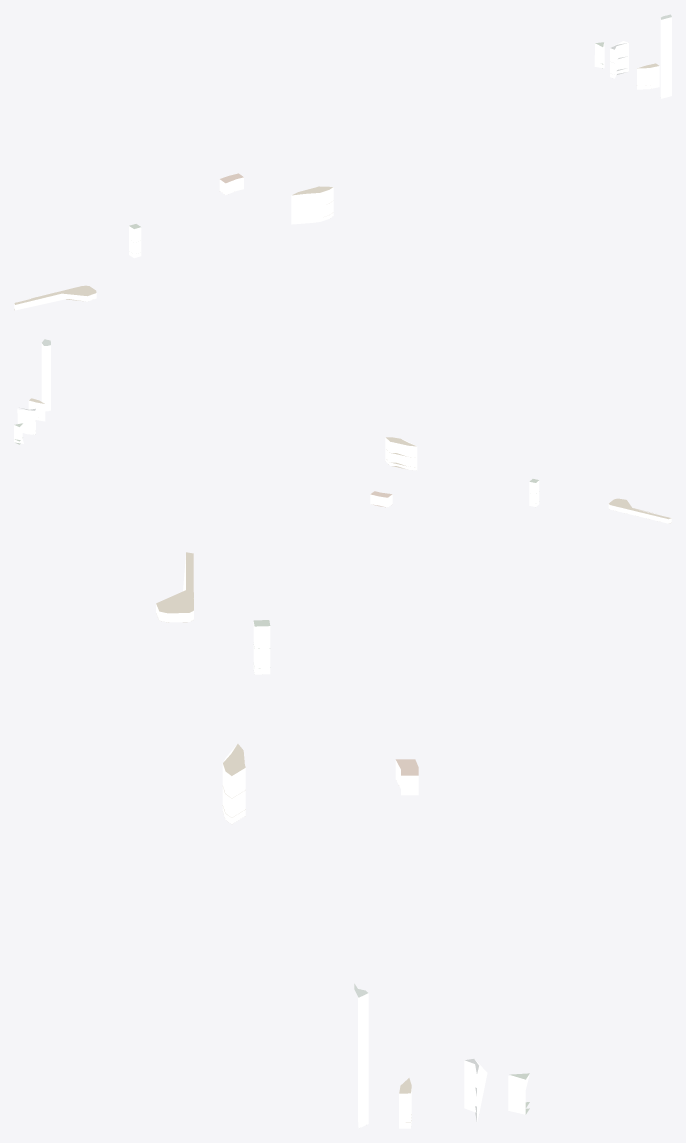
File: buildings--8_-3-coarse.glb
The picture shows the model from 3 angles, top to bottom: view 1: azimuth 30°, elevation 25°; view 2: azimuth 150°, elevation 25°; view 3: azimuth 270°, elevation 25°; orthographic projection. The views are drawn at different scales.
Visible parts, largest first — view 1: block_-8_-3_residential, block_-8_-3_roof, block_-8_-3_office; view 2: block_-8_-3_residential, block_-8_-3_roof, block_-8_-3_office; view 3: block_-8_-3_residential, block_-8_-3_roof, block_-8_-3_office.
Boxes of the visible parts, left/top/right/bottom form: block_-8_-3_residential: left=14, top=41, right=659, bottom=310; block_-8_-3_roof: left=14, top=14, right=671, bottom=310; block_-8_-3_office: left=660, top=17, right=671, bottom=98; block_-8_-3_residential: left=14, top=400, right=671, bottom=523; block_-8_-3_roof: left=14, top=339, right=671, bottom=523; block_-8_-3_office: left=41, top=343, right=50, bottom=411; block_-8_-3_residential: left=156, top=556, right=529, bottom=1128; block_-8_-3_roof: left=156, top=552, right=529, bottom=1122; block_-8_-3_office: left=358, top=993, right=368, bottom=1128.
Size of the model in its own units: 508 by 59.2 by 140.
